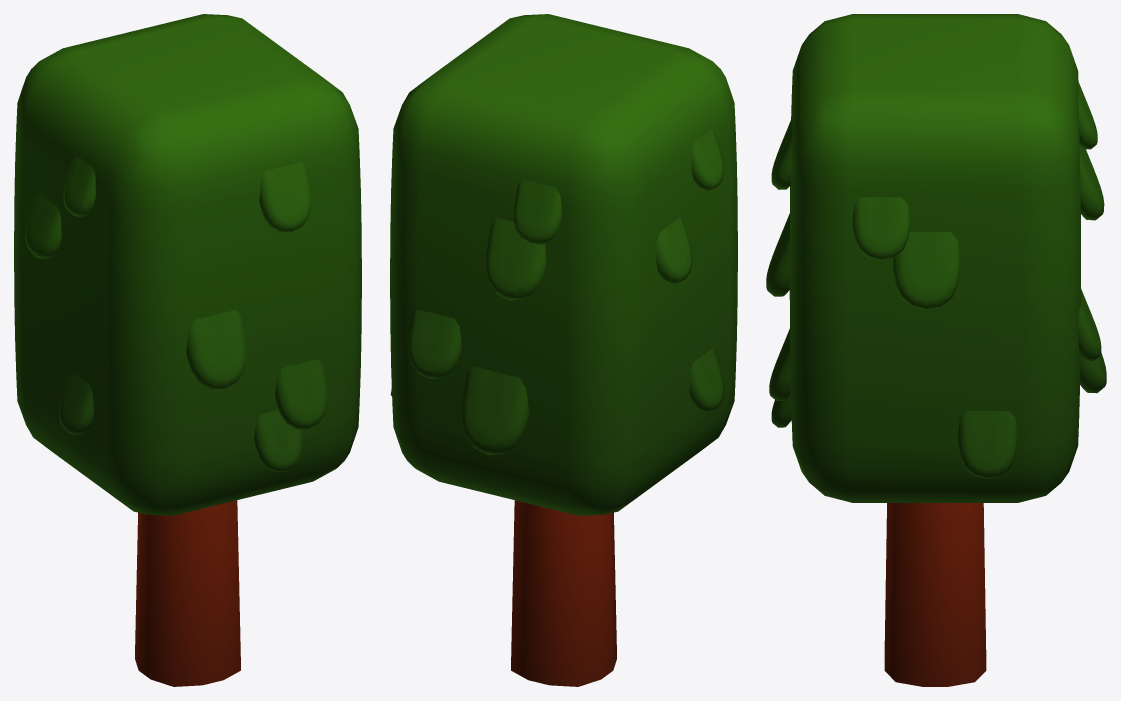
File: Obstacle_Tree_01.fbx
3 renders of one model, left to right at view 1: azimuth 30°, elevation 25°; view 2: azimuth 150°, elevation 25°; view 3: azimuth 270°, elevation 25°, orthographic.
Visible parts, largest first — view 1: Obstacle_Tree_01; view 2: Obstacle_Tree_01; view 3: Obstacle_Tree_01.
Part boxes in pixels (left/top/right/bottom): Obstacle_Tree_01: left=14, top=14, right=361, bottom=686; Obstacle_Tree_01: left=390, top=14, right=737, bottom=686; Obstacle_Tree_01: left=766, top=14, right=1106, bottom=686.
Bounding box in the file's own units: 0.7283 × 1.48 × 0.7468.
